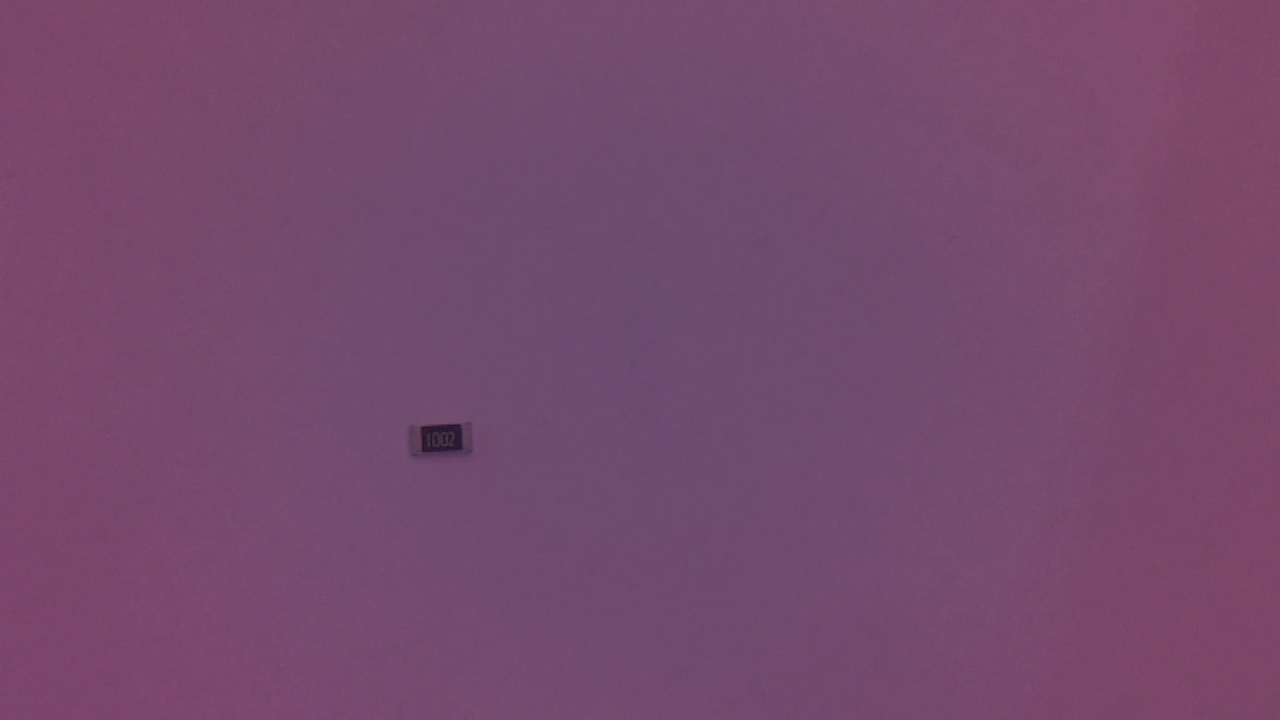Resistor: (407, 417, 488, 473)
